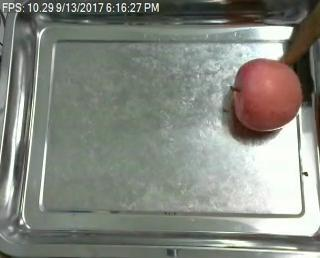apple: (231, 57, 304, 132)
